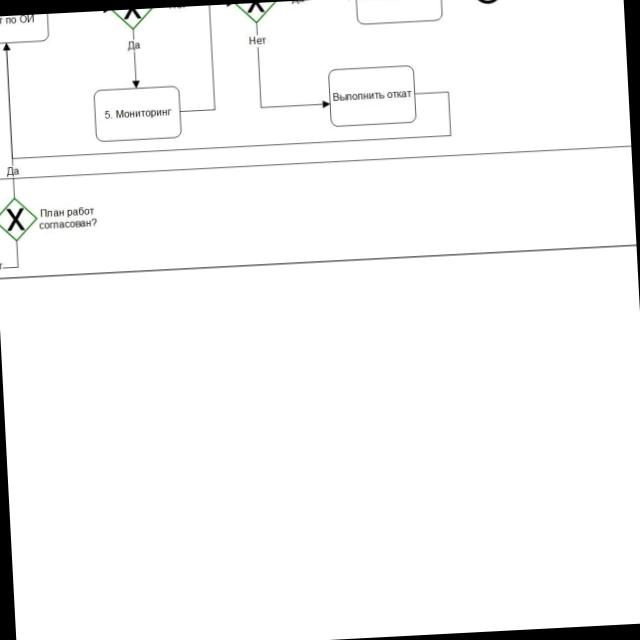arrow: (1, 20, 453, 162), (253, 18, 330, 115), (1, 43, 20, 199), (128, 29, 142, 88)
diamond: (0, 199, 36, 240)
rectangle: (328, 64, 418, 128), (94, 86, 182, 142)
text_region: (38, 204, 99, 232), (125, 37, 144, 53), (248, 34, 267, 47), (6, 164, 22, 178)
